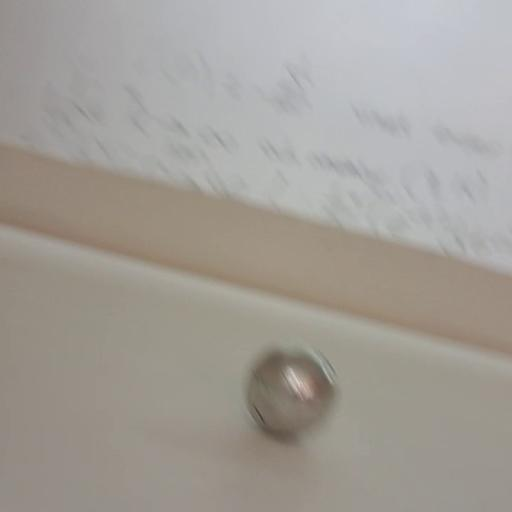alive: (241, 342, 342, 444)
